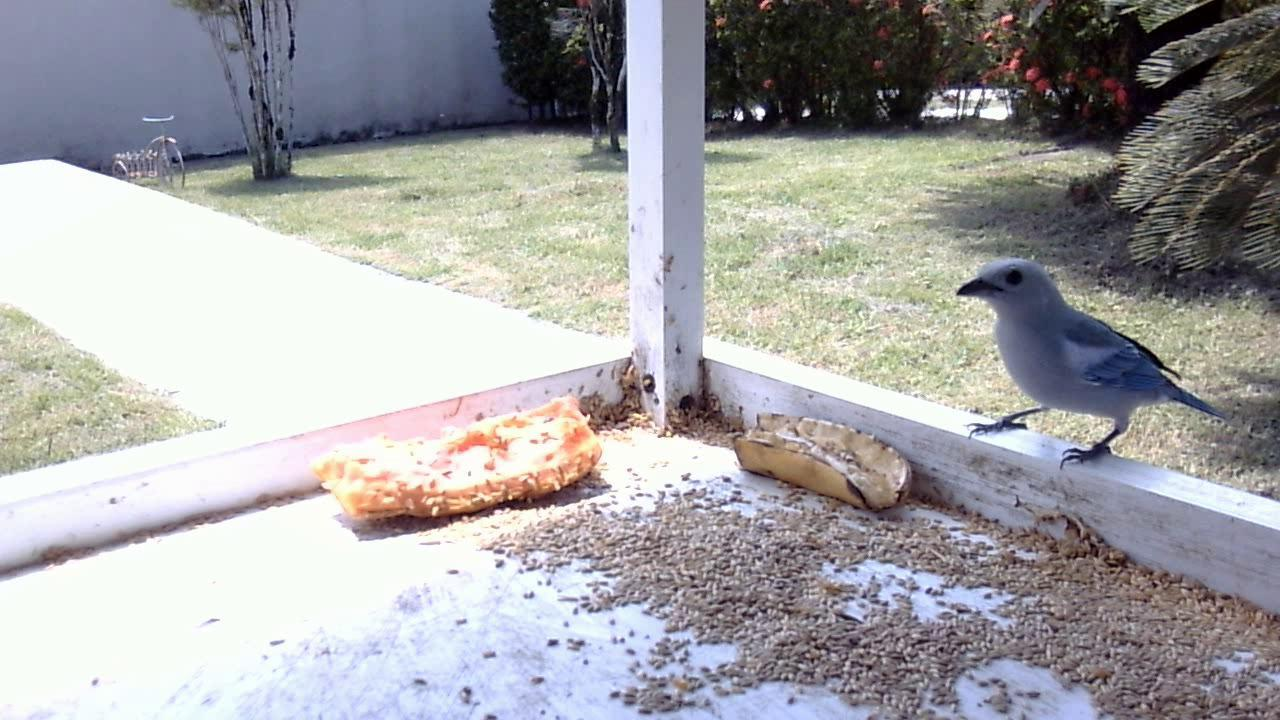sanhaco_da_amazonia: (947, 256, 1231, 482)
